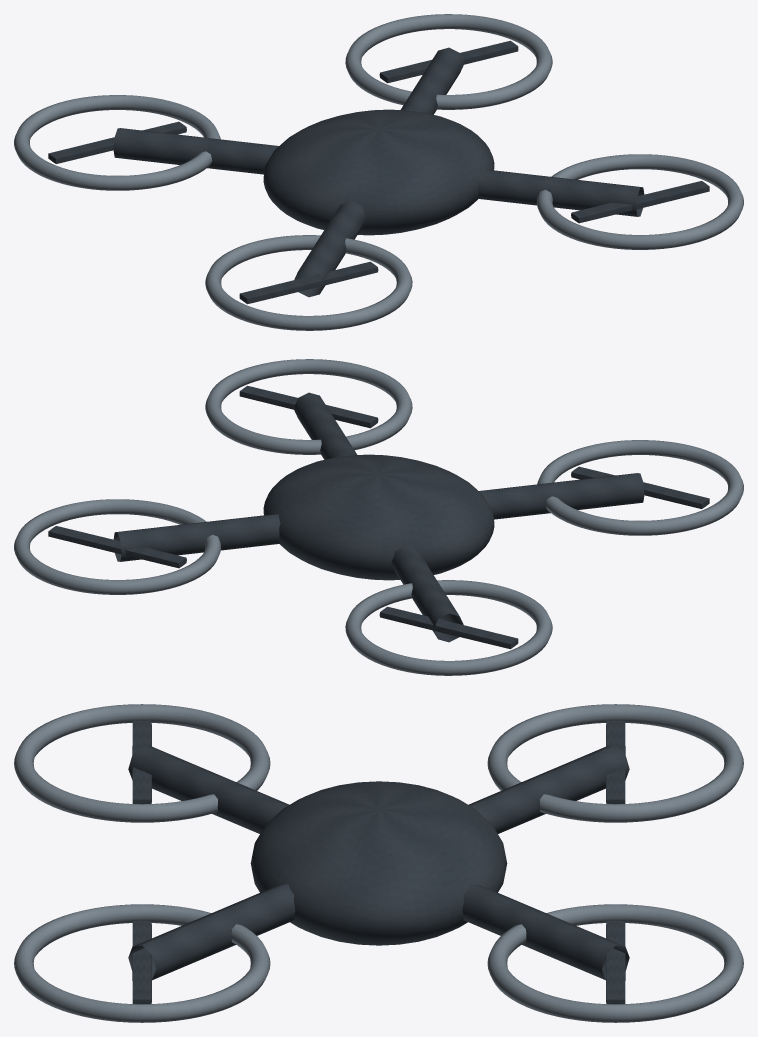
Rendered from combat-drone.glb.
3 renders of one model, top to bottom at view 1: azimuth 30°, elevation 25°; view 2: azimuth 150°, elevation 25°; view 3: azimuth 270°, elevation 25°, orthographic. The views are drawn at different scales.
Parts seen in each view (by area): view 1: iron.0, steel.2, steel.11, steel.8, steel.5, iron.1, iron.10, iron.4, iron.7, iron.6, iron.12, iron.9 (+1 smaller); view 2: iron.0, steel.5, steel.8, steel.11, steel.2, iron.4, iron.7, iron.1, iron.10, iron.3, iron.9, iron.12 (+1 smaller); view 3: iron.0, steel.2, steel.5, steel.8, steel.11, iron.7, iron.10, iron.1, iron.4, iron.9, iron.12, iron.3 (+1 smaller).
Part boxes in pixels (x1=…): iron.0: x1=263, y1=109, x2=494, y2=235; steel.2: x1=14, y1=95, x2=220, y2=190; steel.11: x1=536, y1=154, x2=743, y2=249; steel.8: x1=345, y1=14, x2=552, y2=109; steel.5: x1=205, y1=235, x2=412, y2=330; iron.1: x1=113, y1=128, x2=278, y2=174; iron.10: x1=477, y1=169, x2=644, y2=216; iron.4: x1=294, y1=200, x2=366, y2=297; iron.7: x1=400, y1=47, x2=464, y2=114; iron.6: x1=239, y1=261, x2=378, y2=304; iron.12: x1=571, y1=181, x2=709, y2=223; iron.9: x1=379, y1=40, x2=518, y2=83; iron.0: x1=263, y1=454, x2=494, y2=580; steel.5: x1=537, y1=440, x2=743, y2=535; steel.8: x1=14, y1=499, x2=221, y2=594; steel.11: x1=205, y1=359, x2=412, y2=454; steel.2: x1=345, y1=580, x2=552, y2=675; iron.4: x1=479, y1=473, x2=644, y2=519; iron.7: x1=113, y1=514, x2=280, y2=561; iron.1: x1=391, y1=545, x2=463, y2=642; iron.10: x1=293, y1=392, x2=357, y2=459; iron.3: x1=379, y1=606, x2=518, y2=649; iron.9: x1=48, y1=526, x2=186, y2=568; iron.12: x1=239, y1=385, x2=378, y2=428; iron.0: x1=250, y1=781, x2=507, y2=945; steel.2: x1=487, y1=704, x2=743, y2=822; steel.5: x1=14, y1=704, x2=270, y2=822; steel.8: x1=487, y1=904, x2=743, y2=1022; steel.11: x1=14, y1=904, x2=270, y2=1022; iron.7: x1=462, y1=884, x2=629, y2=980; iron.10: x1=128, y1=884, x2=295, y2=980; iron.1: x1=468, y1=745, x2=629, y2=833; iron.4: x1=128, y1=745, x2=289, y2=833; iron.9: x1=606, y1=920, x2=625, y2=1004; iron.12: x1=132, y1=920, x2=151, y2=1004; iron.3: x1=606, y1=720, x2=625, y2=804.
Size of the model in its own units: 0.74 by 0.12 by 0.74.
Materials: 2 (2 with a texture image).
